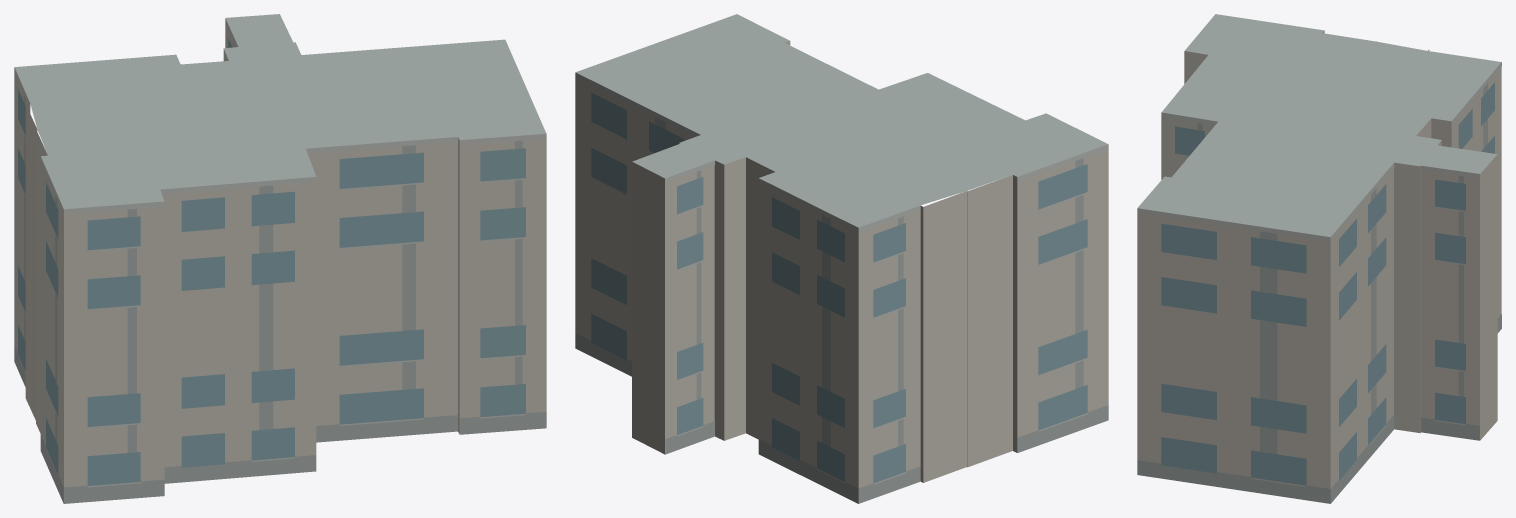
File: survey-upis-32865452.glb
3 renders of one model, left to right at view 1: azimuth 30°, elevation 25°; view 2: azimuth 150°, elevation 25°; view 3: azimuth 270°, elevation 25°, orthographic. The views are drawn at different scales.
Visible parts, largest first — view 1: survey-upis-32865452.tmp; view 2: survey-upis-32865452.tmp; view 3: survey-upis-32865452.tmp.
Part boxes in pixels (left/top/right/bottom): survey-upis-32865452.tmp: left=14, top=14, right=546, bottom=503; survey-upis-32865452.tmp: left=575, top=14, right=1108, bottom=503; survey-upis-32865452.tmp: left=1137, top=14, right=1501, bottom=503.
Bounding box in the file's own units: 24.77 × 13.8 × 17.1.
